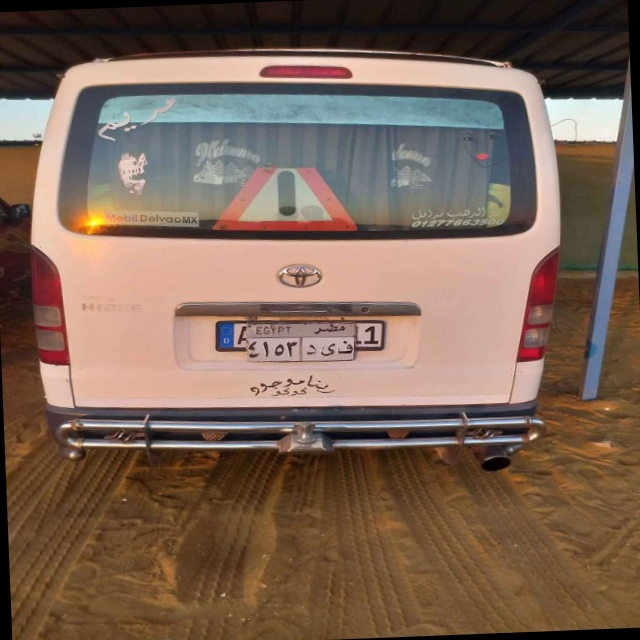License Plate: (244, 319, 358, 366)
